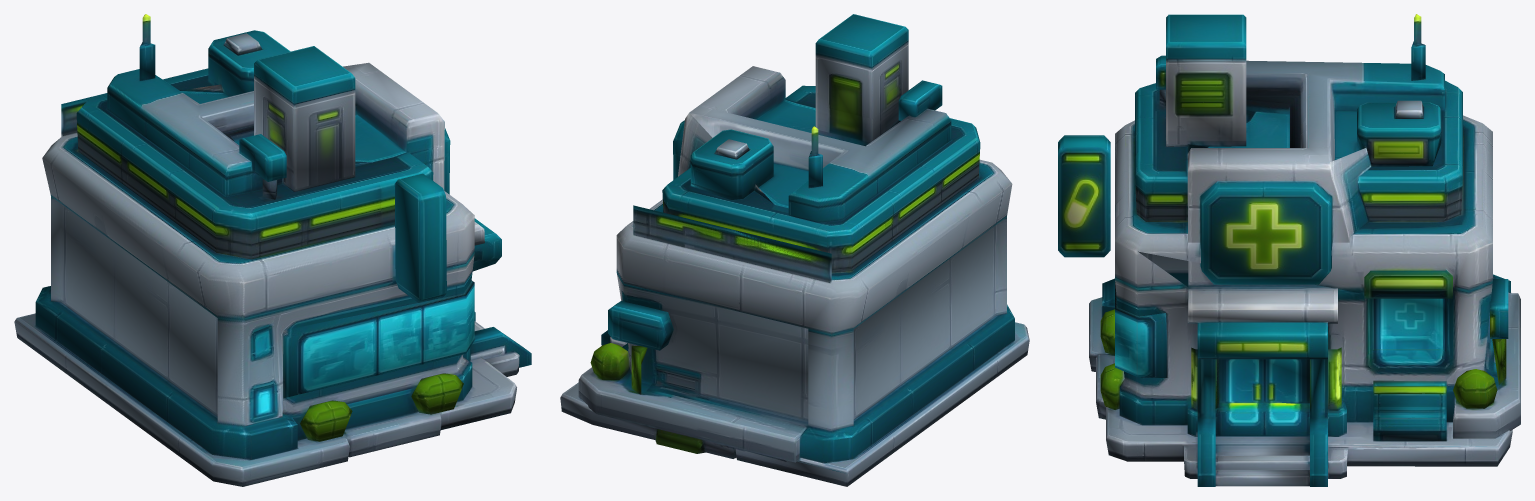
Rendered from building_hospital_01.glb.
The picture shows the model from 3 angles, left to right: view 1: azimuth 30°, elevation 25°; view 2: azimuth 150°, elevation 25°; view 3: azimuth 270°, elevation 25°; orthographic projection. The views are drawn at different scales.
Parts seen in each view (by area): view 1: tripo_node_1c0e58cc-9fd5-4aac-9301-e6bab343b6bc; view 2: tripo_node_1c0e58cc-9fd5-4aac-9301-e6bab343b6bc; view 3: tripo_node_1c0e58cc-9fd5-4aac-9301-e6bab343b6bc.
Part boxes in pixels (x1,y1,x2,y2): tripo_node_1c0e58cc-9fd5-4aac-9301-e6bab343b6bc: [14, 14, 531, 486]; tripo_node_1c0e58cc-9fd5-4aac-9301-e6bab343b6bc: [560, 14, 1029, 486]; tripo_node_1c0e58cc-9fd5-4aac-9301-e6bab343b6bc: [1058, 14, 1520, 486].
Size of the model in its own units: 0.8965 by 0.8379 by 0.998.
Materials: 1 (1 with a texture image).
